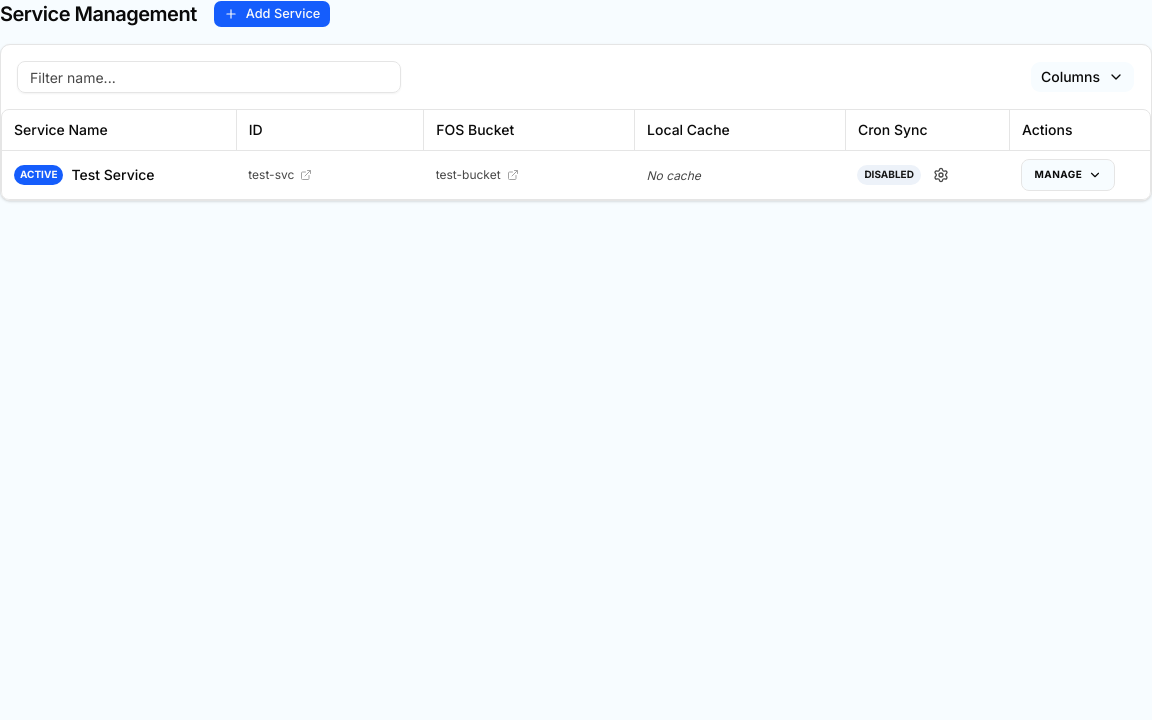
Test: the row Manage menu offers Delete Data (left of/above Teardown) and opens its confirmation dialog
The image size is (1152, 720).
Check: the text "Test Service" is shown, box [72,166,155,182]
Click the button "Manage" at (1068, 174), box [1021,158,1115,190]
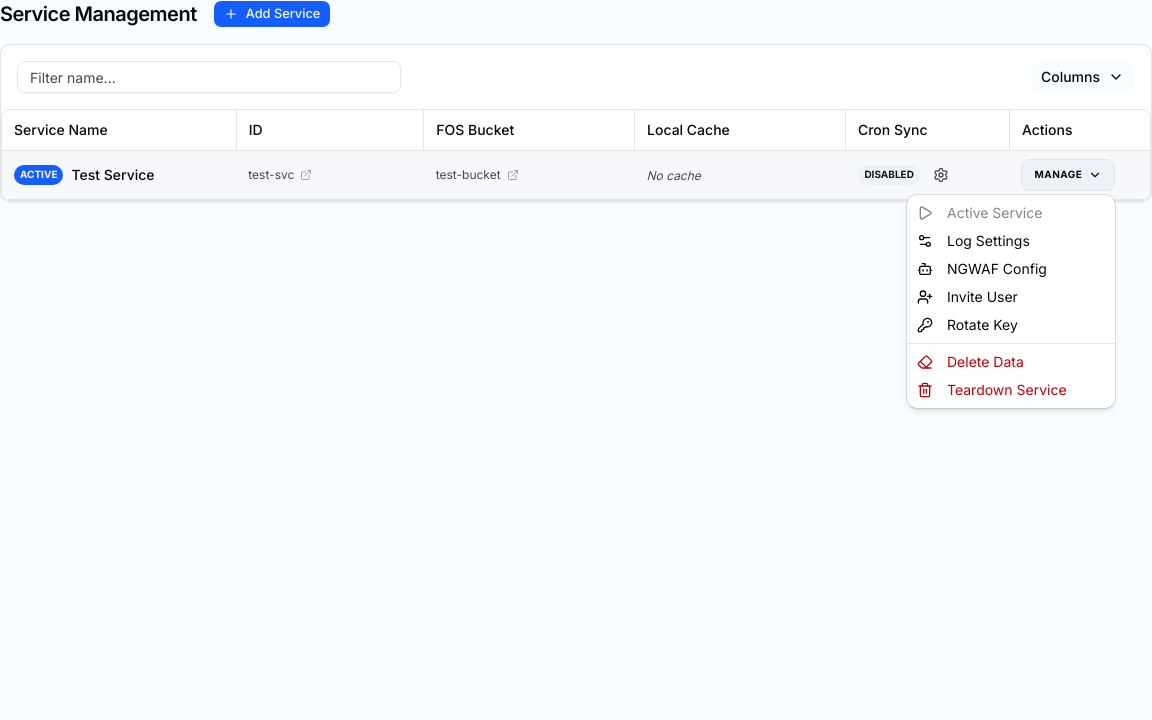
Click the menu item "Delete Data" at (970, 362), box [917,353,1024,370]
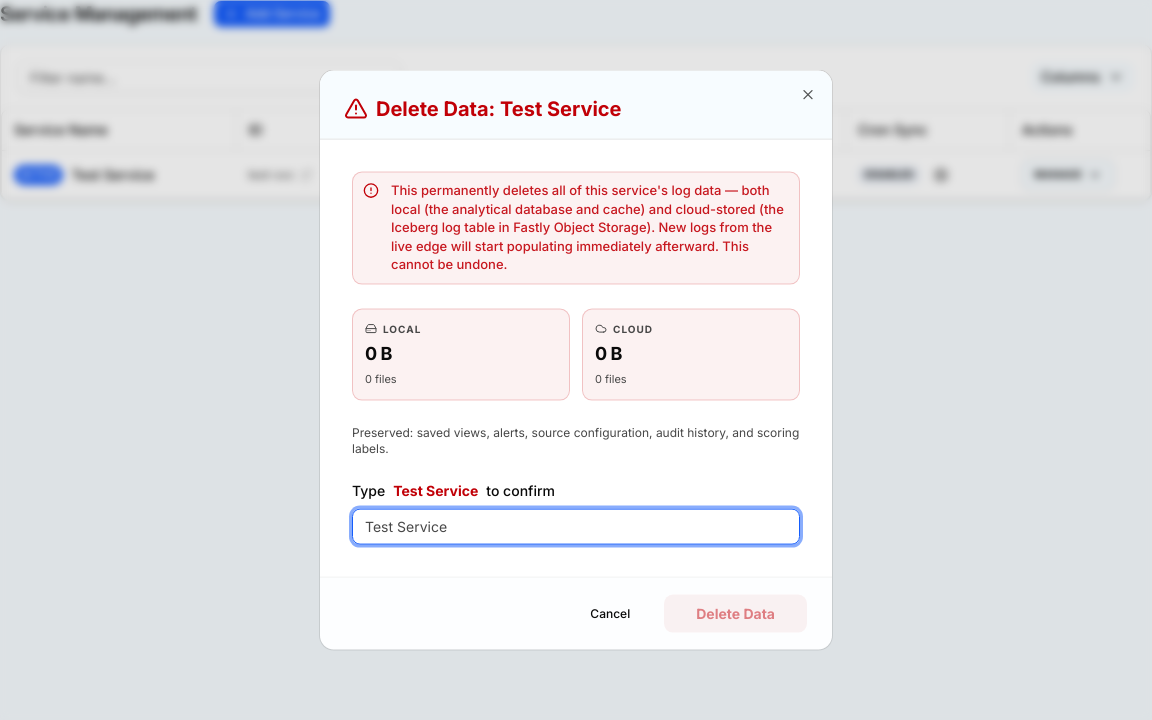
Check: the heading "Delete Data: Test Service" is shown, box [344,97,622,121]
